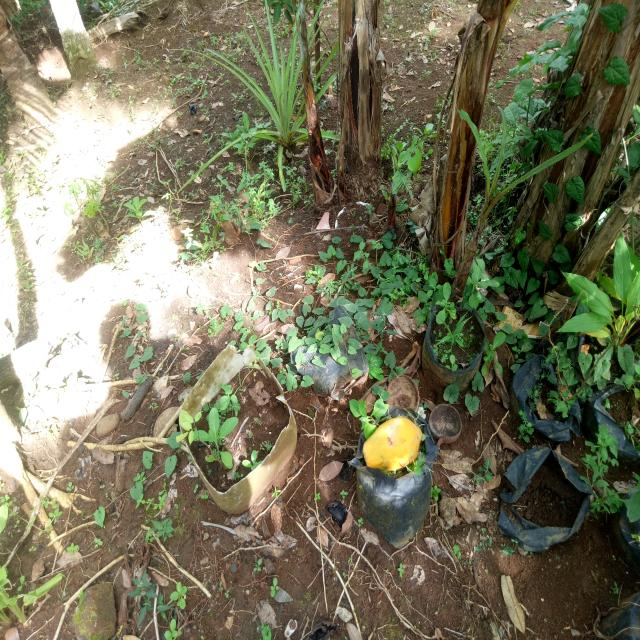Pepaya rippen: (360, 416, 423, 477)
